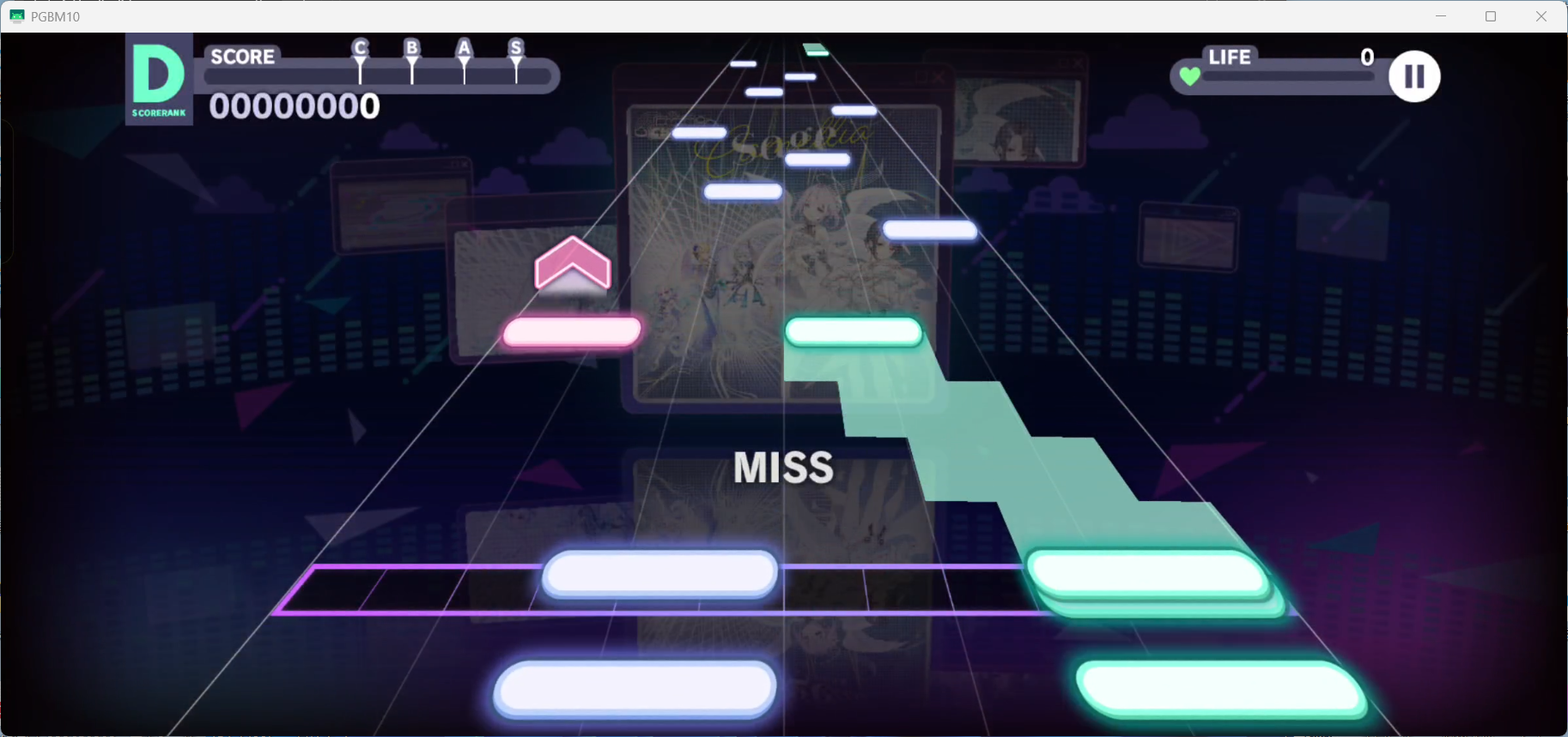flick: (535, 234, 611, 300)
hold: (784, 350, 1248, 546), (802, 43, 826, 51)
tap: (493, 659, 778, 721), (1076, 661, 1370, 721), (1025, 547, 1274, 607), (543, 553, 778, 601), (503, 317, 641, 347), (785, 317, 922, 347), (883, 220, 979, 241), (702, 184, 781, 201), (787, 154, 850, 166), (672, 127, 726, 139), (831, 106, 877, 115), (745, 88, 783, 96), (784, 73, 815, 80), (729, 61, 756, 66), (806, 51, 829, 56)
